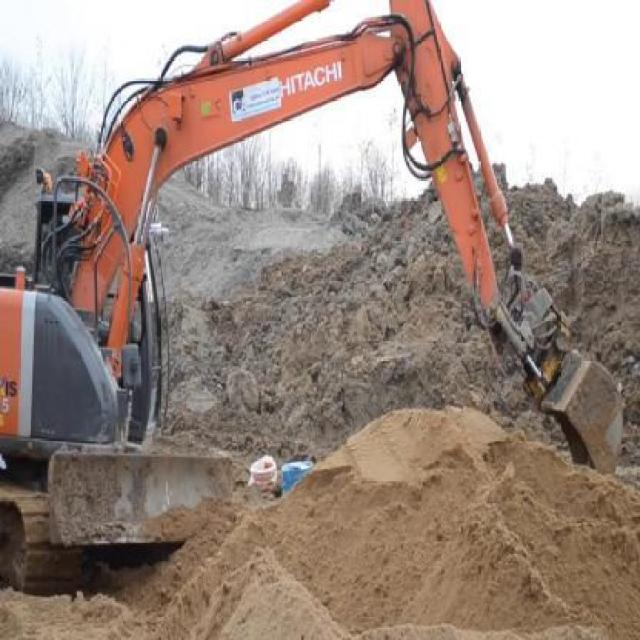Excavator: (1, 0, 630, 595)
